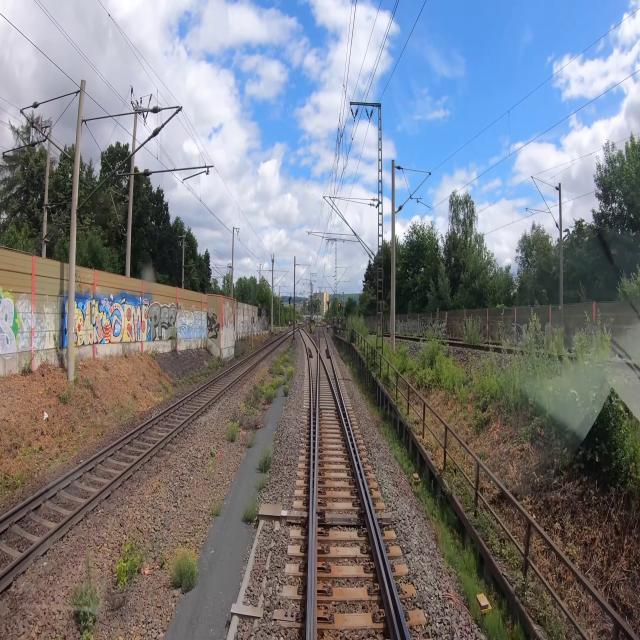Plant: (226, 343, 296, 449), (72, 546, 101, 639), (157, 543, 198, 597), (115, 539, 144, 589), (257, 451, 274, 490), (242, 501, 260, 525), (211, 500, 223, 517), (210, 443, 219, 457)
